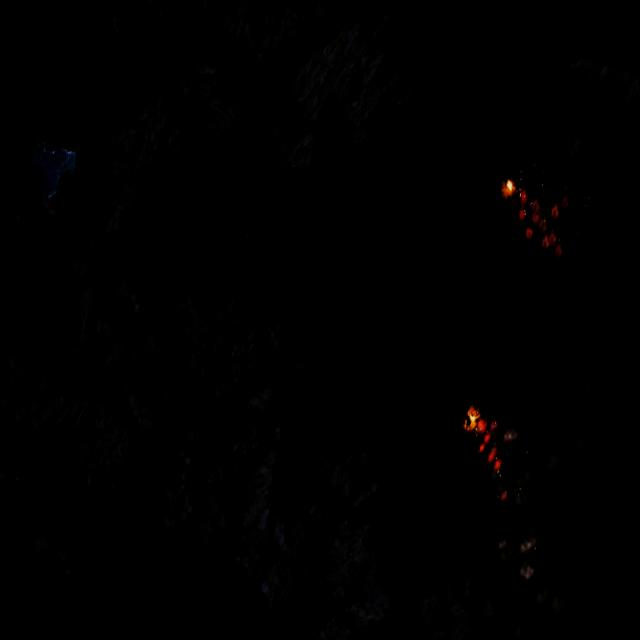fire: (487, 176, 585, 265), (452, 399, 514, 472)
